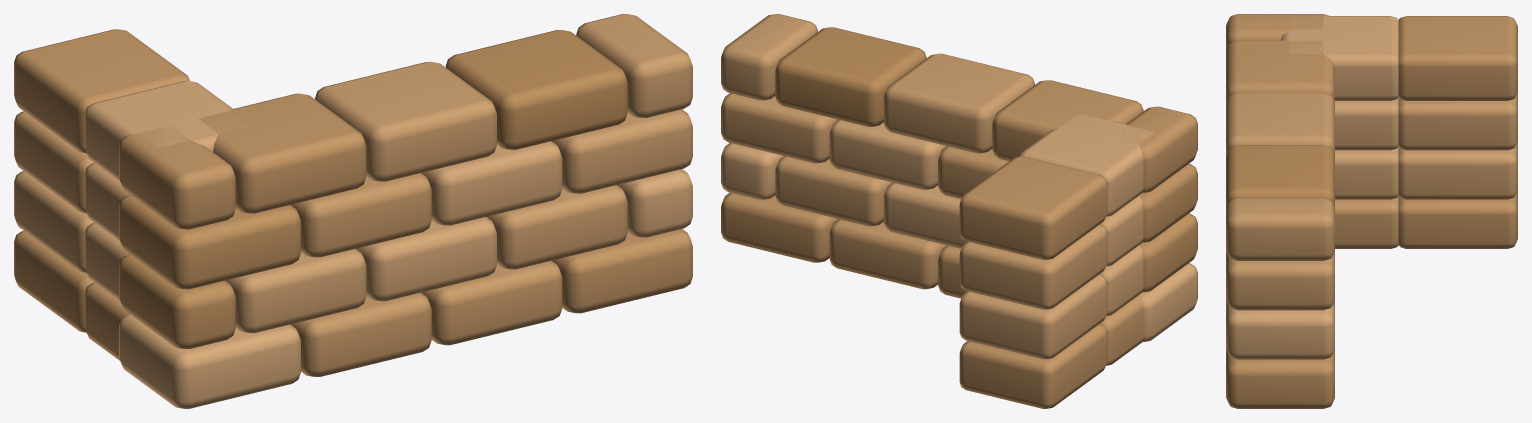
The model's file is NJD-10.glb.
3 views of the same model, side by side, from view 1: azimuth 30°, elevation 25°; view 2: azimuth 150°, elevation 25°; view 3: azimuth 270°, elevation 25° (orthographic). The views are drawn at different scales.
Parts seen in each view (by area): view 1: rounded adobe block.016, rounded adobe block.015, rounded adobe block.014, return wall.007, rounded adobe block.009, rounded adobe block, rounded adobe block.013, rounded adobe block.002, rounded adobe block.005, rounded adobe block.011, rounded adobe block.006, rounded adobe block.007 (+14 smaller); view 2: return wall.007, rounded adobe block.015, rounded adobe block.016, return wall.003, return wall.001, return wall.005, return wall.006, rounded adobe block.014, rounded adobe block.003, rounded adobe block.002, rounded adobe block.007, rounded adobe block.012 (+13 smaller); view 3: return wall.007, return wall.006, rounded adobe block.017, return wall.001, return wall.003, return wall.005, rounded adobe block.015, rounded adobe block.016, rounded adobe block.014, rounded adobe block.003, rounded adobe block.012, rounded adobe block.008 (+4 smaller).
Boxes of the visible parts, x1,y1,x2,y2 form: rounded adobe block.016: (445,30,627,149); rounded adobe block.015: (315,61,496,181); rounded adobe block.014: (198,93,366,213); return wall.007: (14,29,189,153); rounded adobe block.009: (119,194,300,289); rounded adobe block: (119,314,300,408); rounded adobe block.013: (119,125,235,229); rounded adobe block.002: (421,261,562,345); rounded adobe block.005: (225,249,366,333); rounded adobe block.011: (421,141,562,225); rounded adobe block.006: (356,217,496,301); rounded adobe block.007: (487,185,627,269); return wall.007: (959,156,1107,259); rounded adobe block.015: (884,53,1034,153); rounded adobe block.016: (775,27,926,126); return wall.003: (959,274,1107,359); return wall.001: (959,324,1107,408); return wall.005: (959,224,1107,309); return wall.006: (1020,113,1155,216); rounded adobe block.014: (992,80,1143,161); rounded adobe block.003: (721,192,837,262); rounded adobe block.002: (829,219,946,289); rounded adobe block.007: (775,156,892,226); rounded adobe block.012: (721,93,837,163); return wall.007: (1398,16,1517,100); return wall.006: (1281,16,1398,100); rounded adobe block.017: (1226,198,1334,260); return wall.001: (1398,190,1517,248); return wall.003: (1398,141,1517,199); return wall.005: (1398,91,1517,150); rounded adobe block.015: (1226,93,1334,155); rounded adobe block.016: (1226,145,1334,208); rounded adobe block.014: (1226,40,1334,103); rounded adobe block.003: (1226,349,1334,408); rounded adobe block.012: (1226,250,1334,310); rounded adobe block.008: (1226,304,1334,359).
Size of the model in its own units: 1.91 by 0.83 by 1.12.
